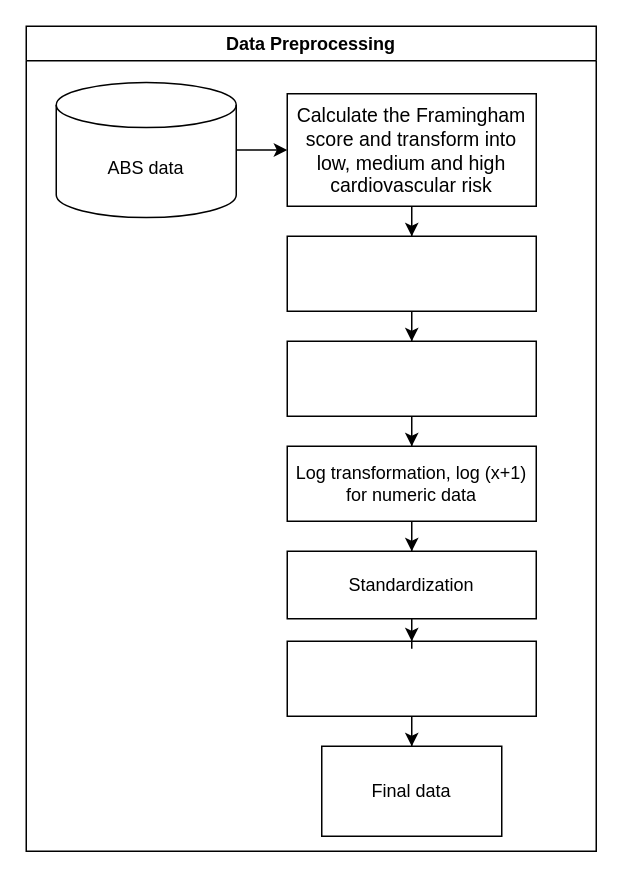
This 623x878 diagram has some shape labels left out. The shapes that lost their labels are listed below. From the top down, each one's box as (x1, y1, x2, y2) in pixels, then its label:
(286, 235, 536, 311): Cleaning out logistical wrong values
(286, 340, 536, 416): Removing variabls with very low variance, and high missingness
(286, 640, 536, 716): Drop missing values
